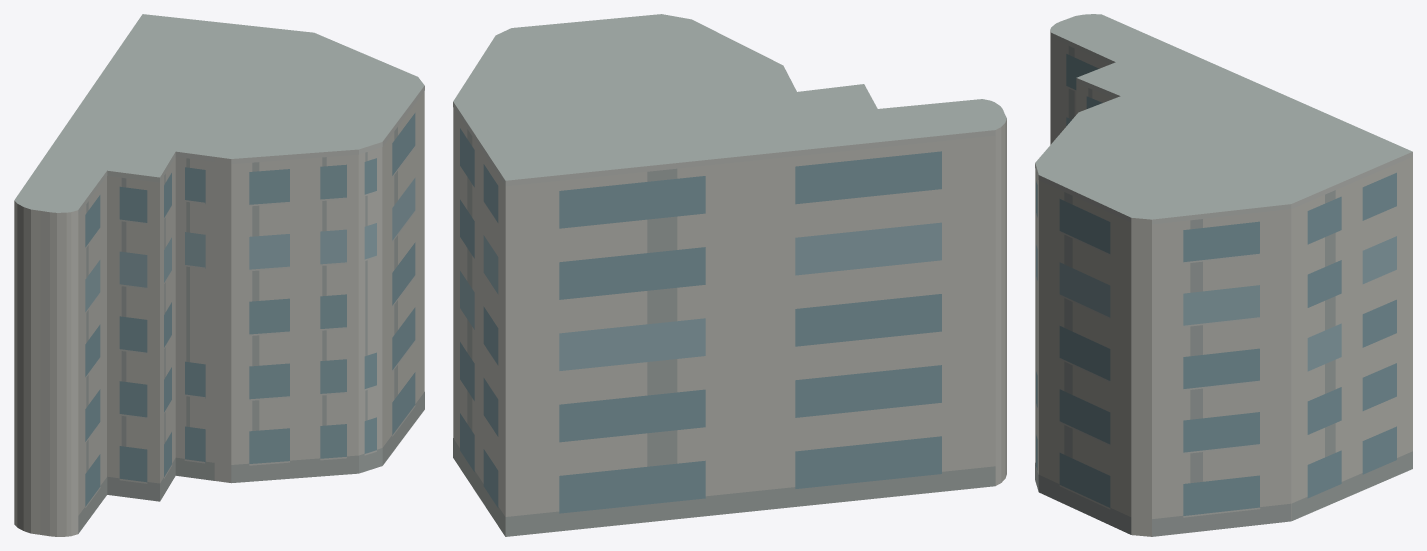
File: survey-upis-32651186.glb
3 renders of one model, left to right at view 1: azimuth 30°, elevation 25°; view 2: azimuth 150°, elevation 25°; view 3: azimuth 270°, elevation 25°, orthographic. The views are drawn at different scales.
Parts seen in each view (by area): view 1: survey-upis-32651186.tmp; view 2: survey-upis-32651186.tmp; view 3: survey-upis-32651186.tmp.
Part boxes in pixels (x1=…): survey-upis-32651186.tmp: x1=14, y1=14, x2=424, y2=536; survey-upis-32651186.tmp: x1=453, y1=14, x2=1006, y2=536; survey-upis-32651186.tmp: x1=1035, y1=14, x2=1412, y2=536.
Bounding box in the file's own units: 21.2 × 15.25 × 16.46.
